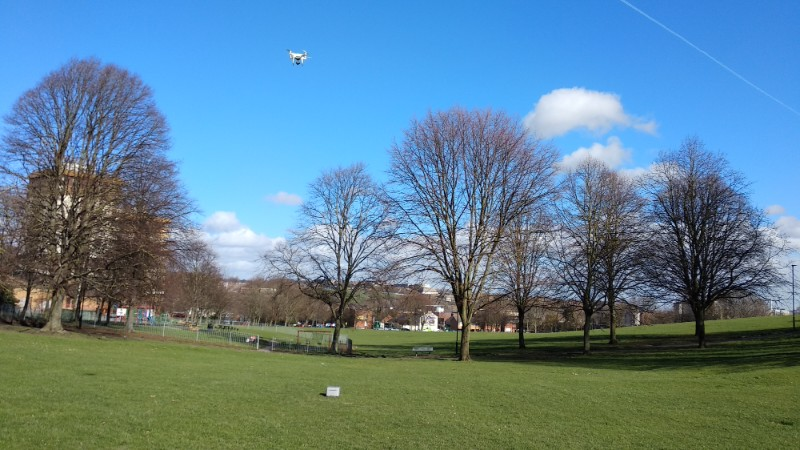drone: (284, 47, 311, 67)
